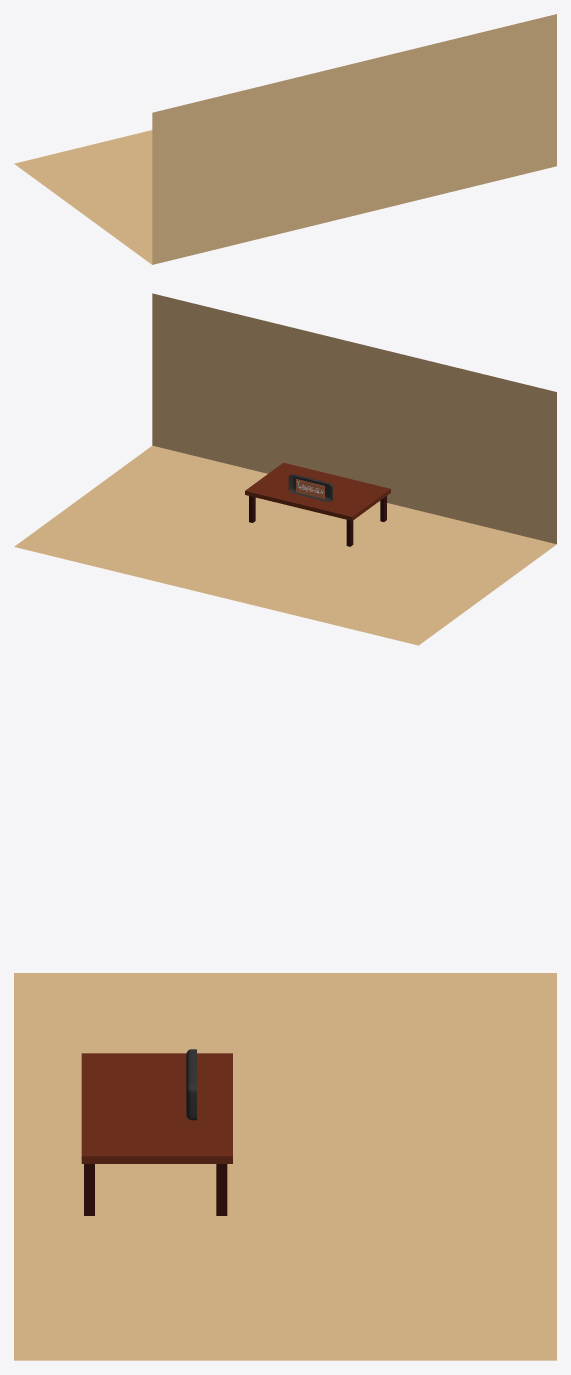
File: lngsng.gltf
The picture shows the model from 3 angles, top to bottom: view 1: azimuth 30°, elevation 25°; view 2: azimuth 150°, elevation 25°; view 3: azimuth 270°, elevation 25°; orthographic projection. The views are drawn at different scales.
Visible parts, largest first — view 1: bg.001; view 2: bg.001, table, radioCut; view 3: bg.001, table.
Boxes of the visible parts, bbox=[...] form: bg.001: bbox=[14, 14, 556, 264]; bg.001: bbox=[14, 293, 556, 645]; table: bbox=[245, 462, 390, 546]; radioCut: bbox=[288, 474, 332, 501]; bg.001: bbox=[14, 973, 556, 1360]; table: bbox=[81, 1053, 232, 1215].
Size of the model in its own units: 49.18 by 17.68 by 29.12.
